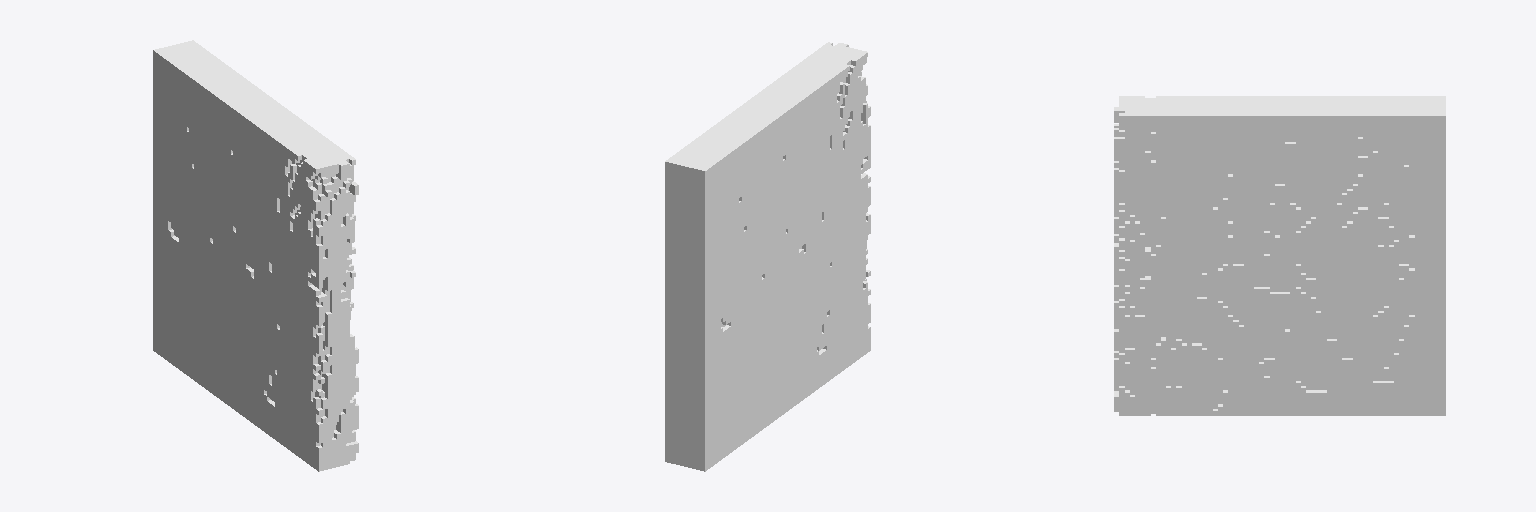
File: Tutorialmap_V2_unfinished-13.obj
3 renders of one model, left to right at view 1: azimuth 30°, elevation 25°; view 2: azimuth 150°, elevation 25°; view 3: azimuth 270°, elevation 25°, orthographic.
Visible parts, largest first — view 1: object 1; view 2: object 1; view 3: object 1.
Boxes of the visible parts, x1=… form: object 1: x1=153, y1=40, x2=358, y2=471; object 1: x1=665, y1=42, x2=870, y2=471; object 1: x1=1114, y1=96, x2=1445, y2=415.
Bounding box in the file's own units: 0.9 × 6.4 × 6.4.